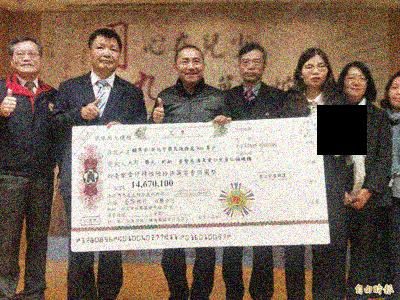without_mask: (91, 41, 121, 72), (11, 48, 41, 75), (176, 56, 204, 83), (301, 62, 329, 87), (239, 56, 266, 81), (343, 74, 368, 97), (387, 82, 400, 107)
